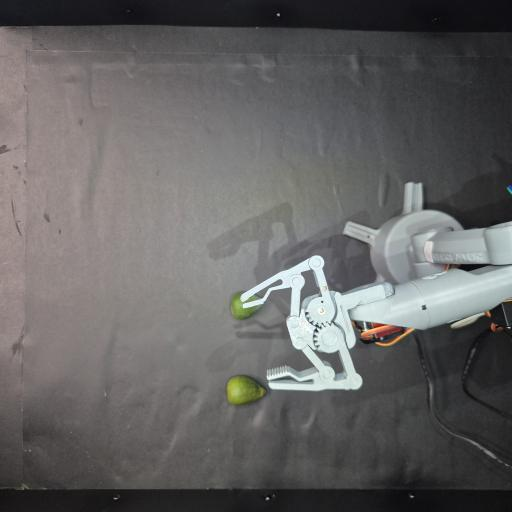higo: (227, 376, 266, 405), (230, 292, 262, 319)
